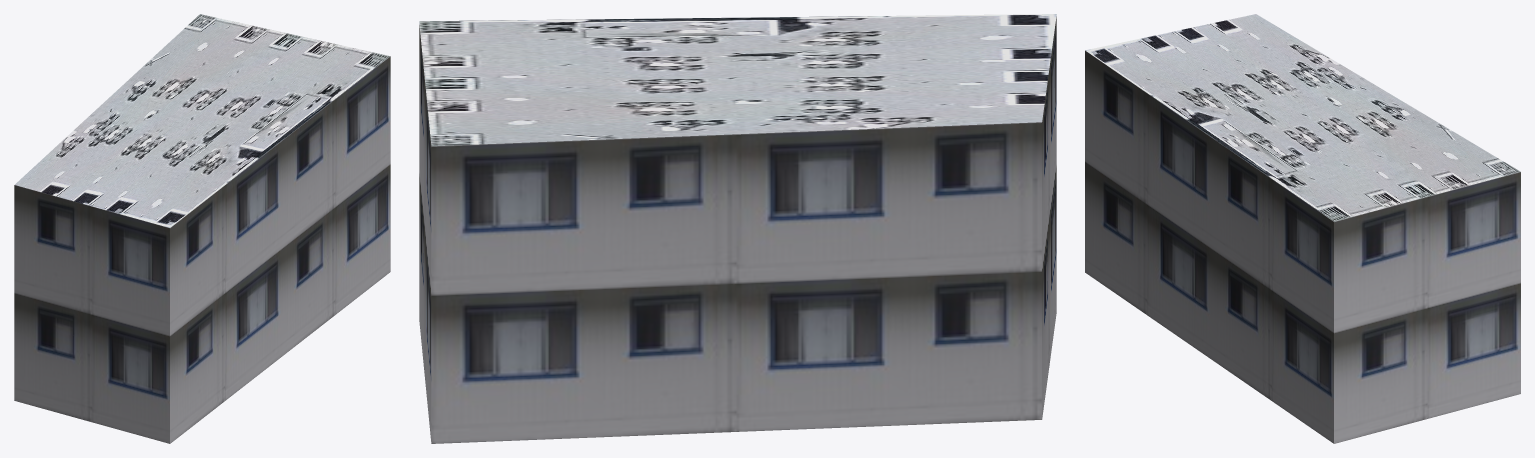
The model's file is ResTex__1586.fbx.
The picture shows the model from 3 angles, left to right: view 1: azimuth 30°, elevation 25°; view 2: azimuth 150°, elevation 25°; view 3: azimuth 270°, elevation 25°; orthographic projection. The views are drawn at different scales.
Parts seen in each view (by area): view 1: CityEngineMaterial_9_m, CityEngineMaterial_8_m; view 2: CityEngineMaterial_9_m, CityEngineMaterial_8_m; view 3: CityEngineMaterial_9_m, CityEngineMaterial_8_m.
Boxes of the visible parts, <box> form: CityEngineMaterial_9_m: <box>14,56,390,443</box>; CityEngineMaterial_8_m: <box>15,14,390,227</box>; CityEngineMaterial_9_m: <box>419,16,1056,443</box>; CityEngineMaterial_8_m: <box>419,14,1056,146</box>; CityEngineMaterial_9_m: <box>1085,50,1520,443</box>; CityEngineMaterial_8_m: <box>1085,14,1520,221</box>.
Bounding box in the file's own units: 12.04 × 6 × 10.67.
2 materials, 2 textured.
